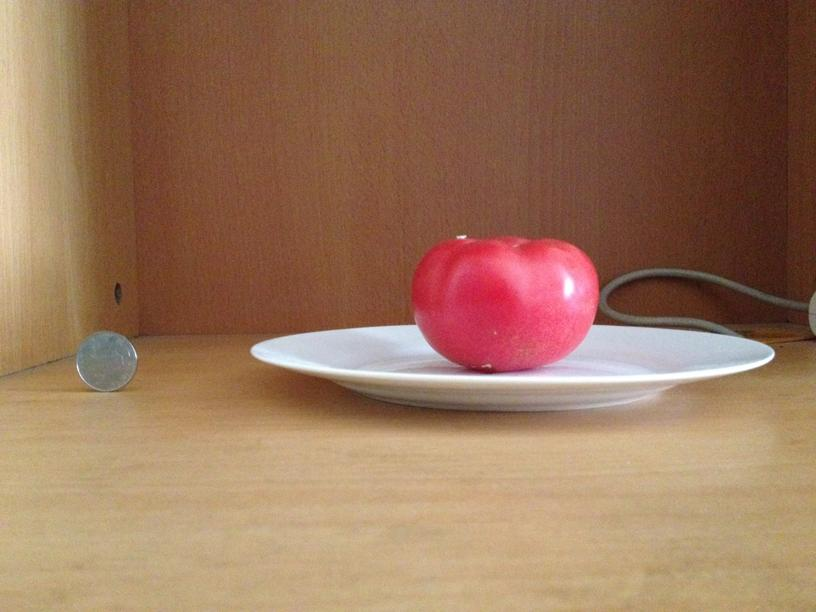coin: (71, 331, 140, 394)
tomato: (409, 233, 602, 372)
